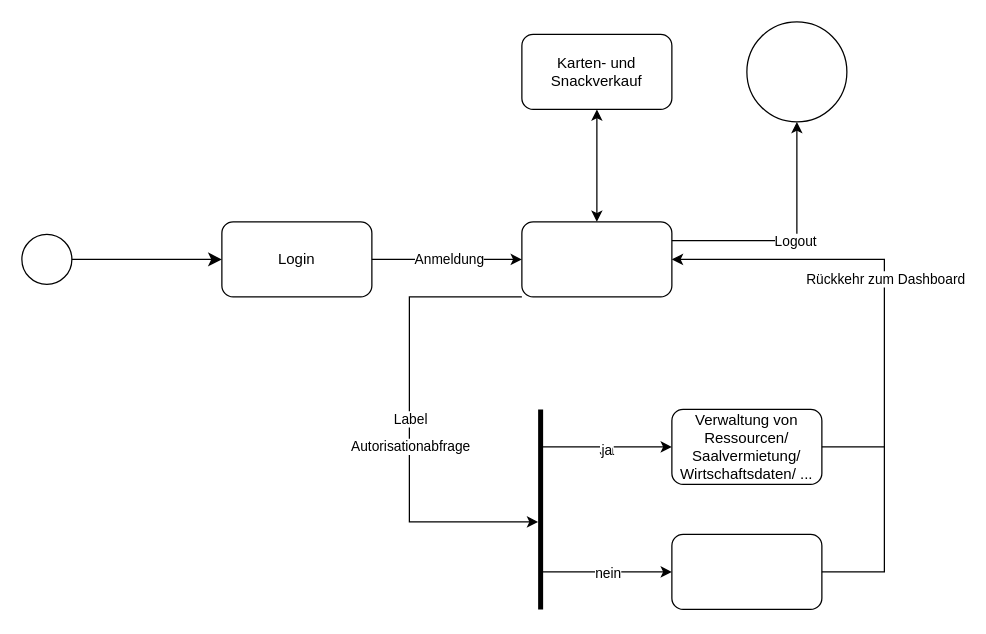
Some shapes in this 986 by 634 pixel diagram are drawn without their labels. Here are the shapes that lost their labels. From the top down, the centre of each, then its label:
the point at 596,259: Dashboard
the point at 746,571: Systemablehnung
